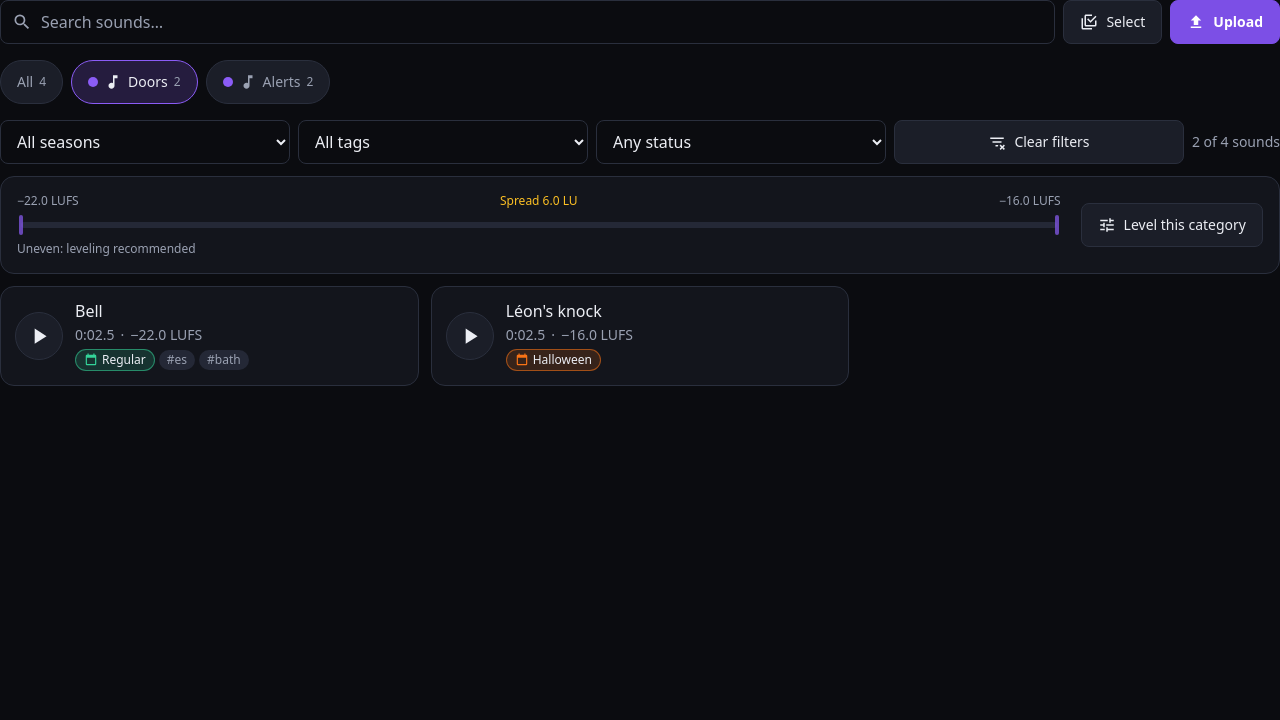
Scenario: selection › selects every filtered sound at once
This screenshot has width=1280, height=720.
Click the button with test id "select-toggle" at (1113, 22), box [1063,0,1162,44]
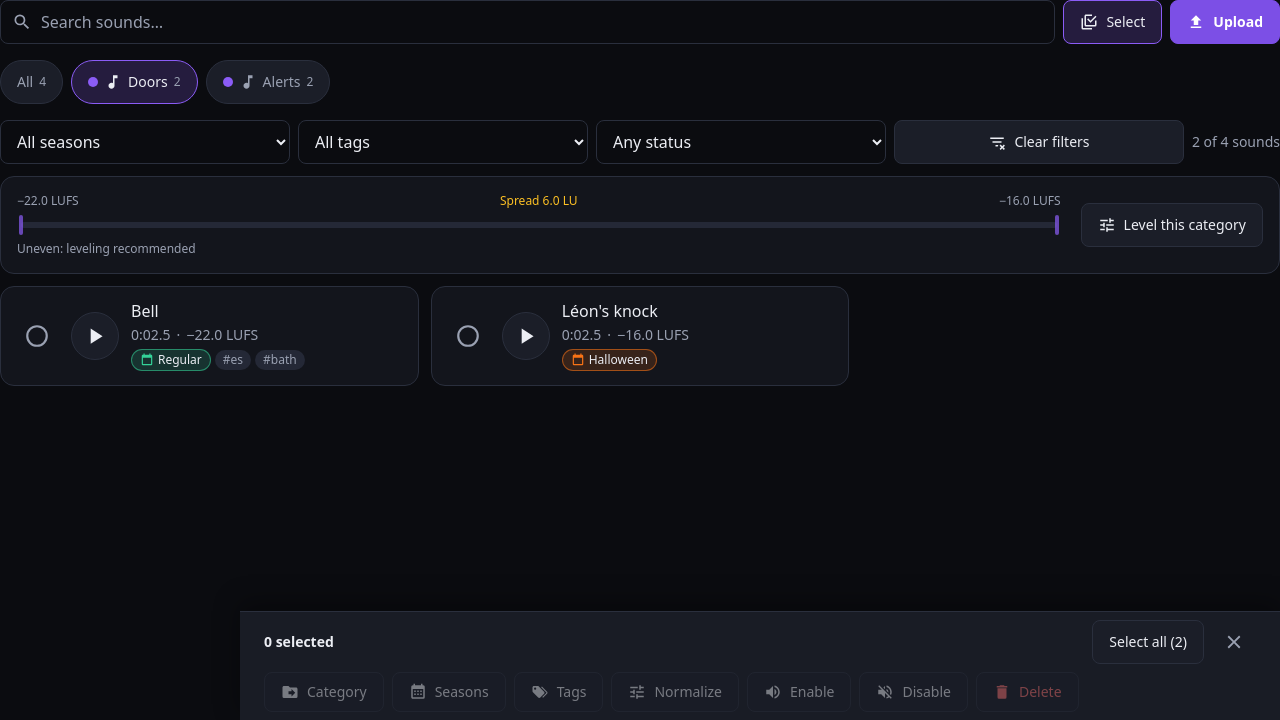
Result: the button with test id "select-all" reads "Select all (2)"
Click the button with test id "select-all" at (1148, 642), box [1092,620,1204,664]
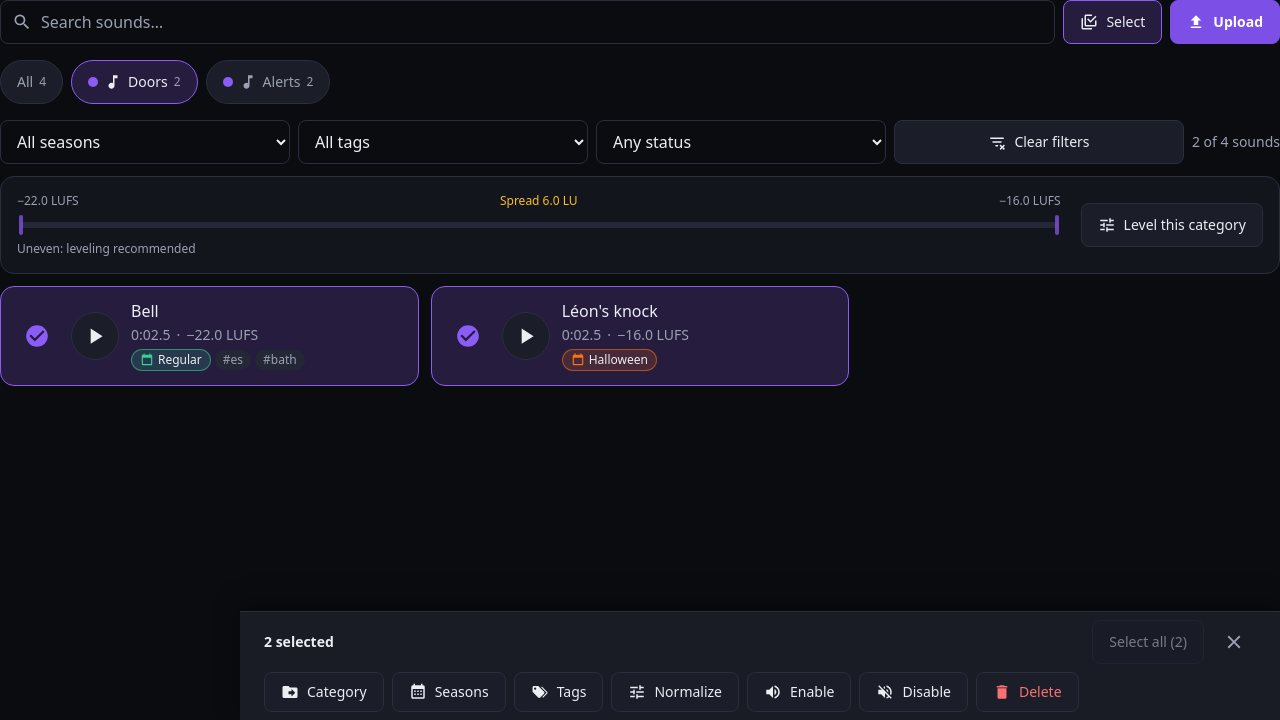
Result: the text with test id "count" reads "2 selected" at [264,632,334,651]
